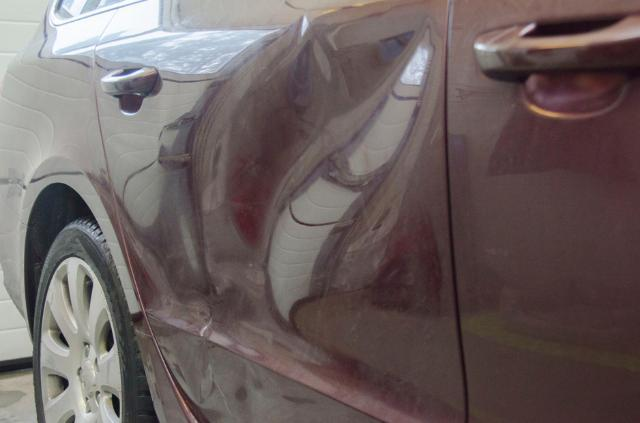Door: (142, 2, 464, 384)
